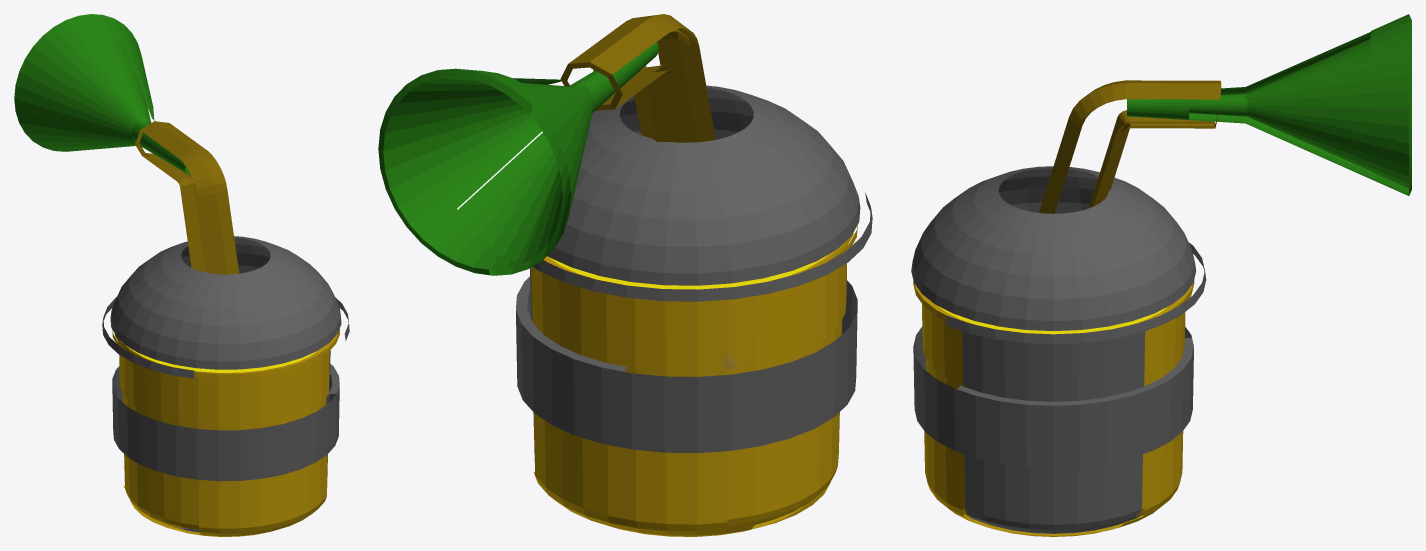
Rendered from FAT_F.fbx.
3 views of the same model, side by side, from view 1: azimuth 30°, elevation 25°; view 2: azimuth 150°, elevation 25°; view 3: azimuth 270°, elevation 25° (orthographic). The views are drawn at different scales.
Parts seen in each view (by area): view 1: Normal_Shooter_Drink.001; view 2: Normal_Shooter_Drink.001; view 3: Normal_Shooter_Drink.001.
Boxes of the visible parts, bbox=[...] form: Normal_Shooter_Drink.001: bbox=[14, 14, 349, 536]; Normal_Shooter_Drink.001: bbox=[378, 14, 872, 536]; Normal_Shooter_Drink.001: bbox=[911, 14, 1411, 536].
Size of the model in its own units: 311 by 526 by 521.
Materials: 1 (1 with a texture image).
